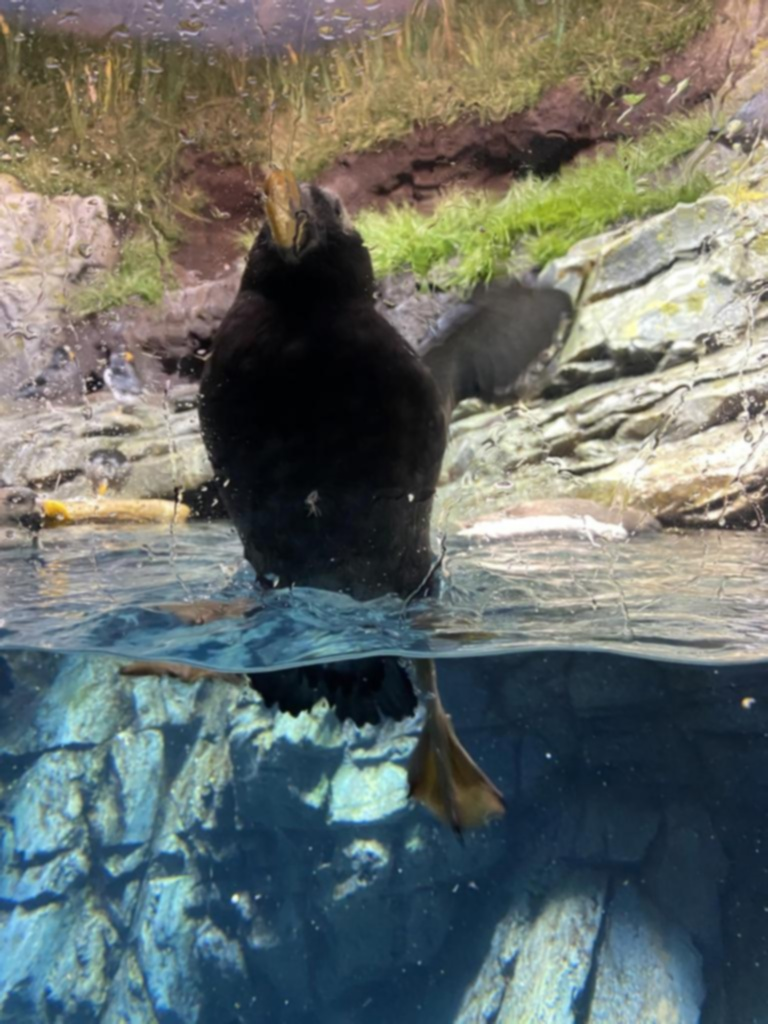puffin: (184, 166, 466, 600)
